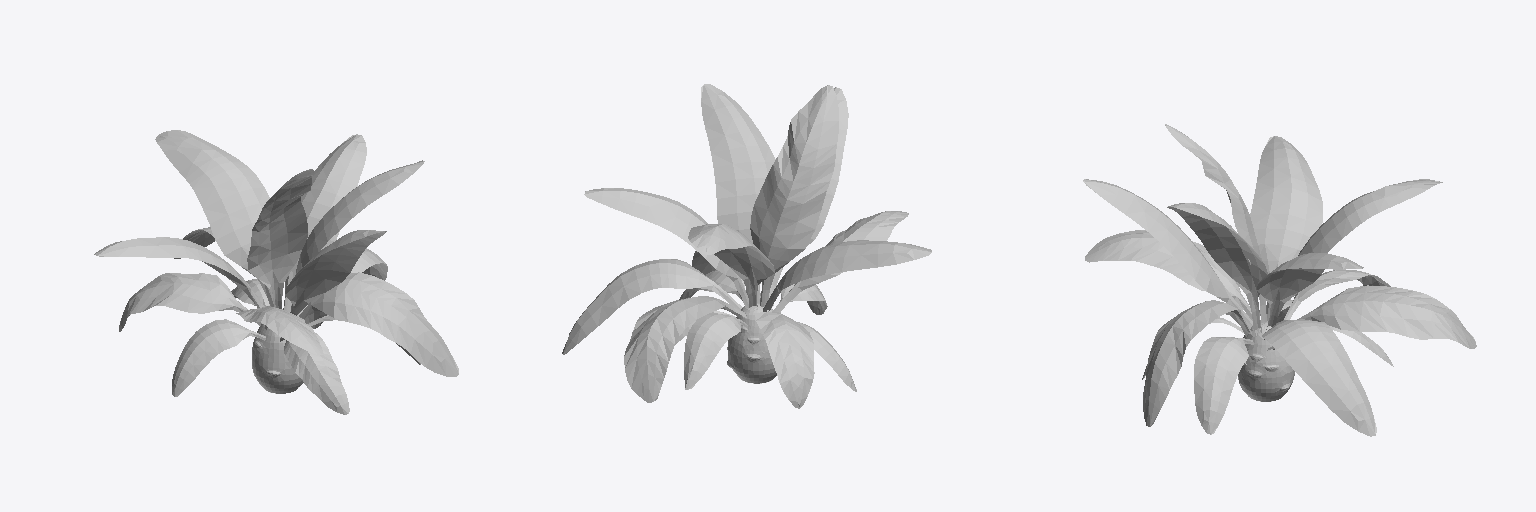
Rendered from palm.obj.
The picture shows the model from 3 angles: view 1: azimuth 30°, elevation 25°; view 2: azimuth 150°, elevation 25°; view 3: azimuth 270°, elevation 25°; orthographic projection.
Parts seen in each view (by area): view 1: the_palm; view 2: the_palm; view 3: the_palm.
Boxes of the visible parts, x1,y1,x2,y2 form: the_palm: [94, 130, 458, 414]; the_palm: [562, 84, 931, 408]; the_palm: [1083, 124, 1476, 436].
Bounding box in the file's own units: 2.37 × 1.82 × 2.5.